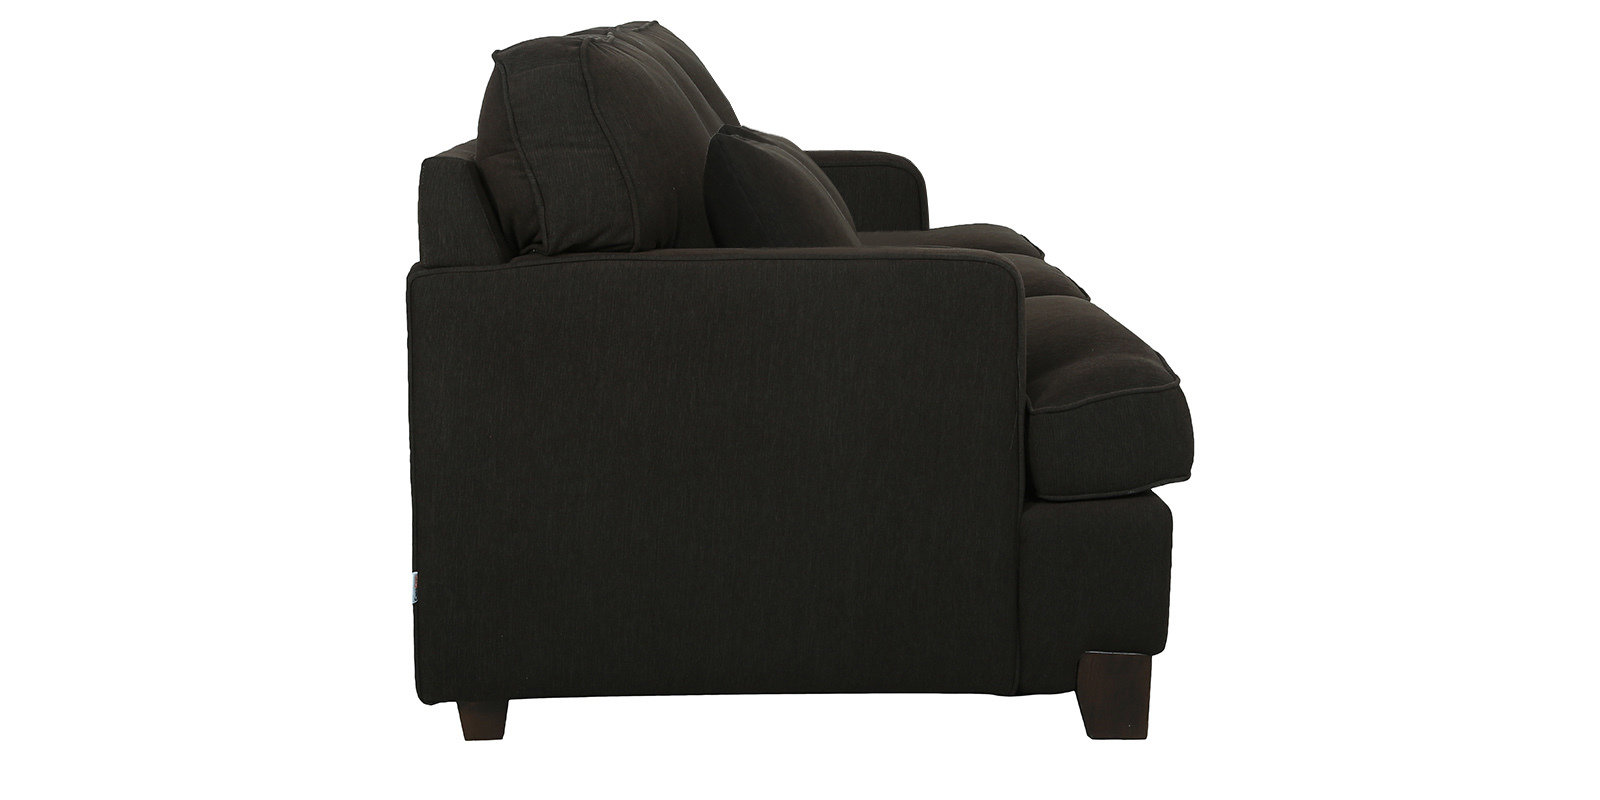Parana Three Seater Sofa in Chestnut Brown Color by CasaCraft: (403, 18, 1195, 741)
